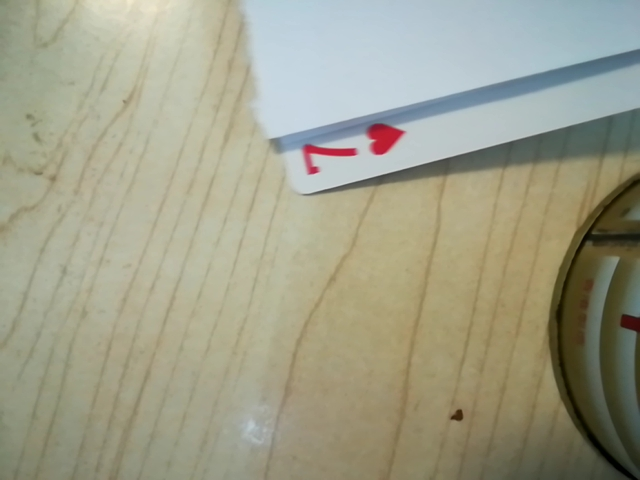hx 7: (293, 117, 411, 186)
